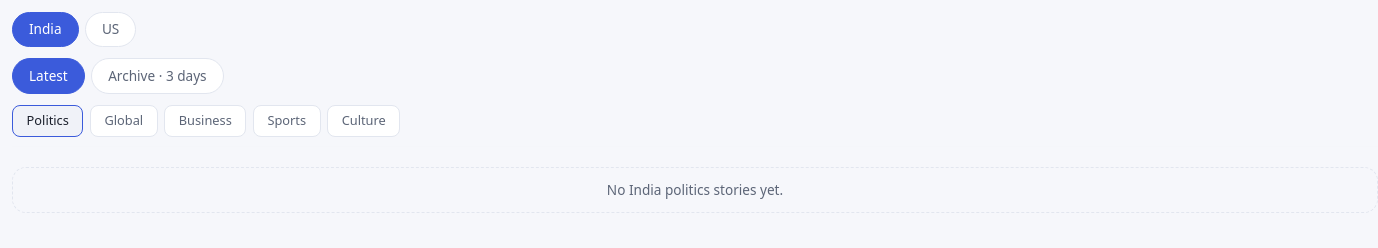
Scenario: StoriesFeed — country toggle › opens on India, not US
Click the tab "Business": (205, 121) [164,105,246,137]
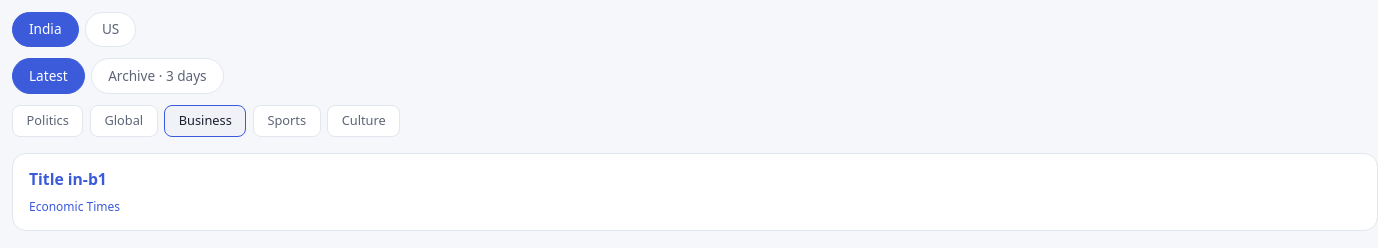
Now the link "Title in-b1" is shown, box [29,168,107,190]
